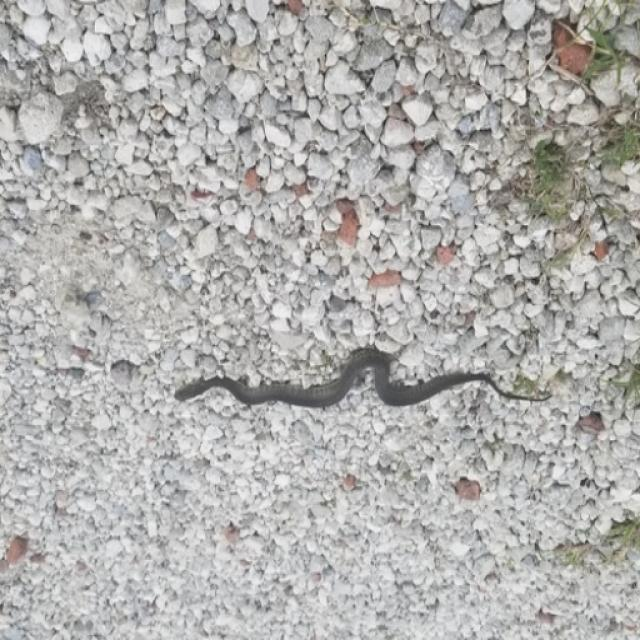snake: (159, 331, 558, 433)
